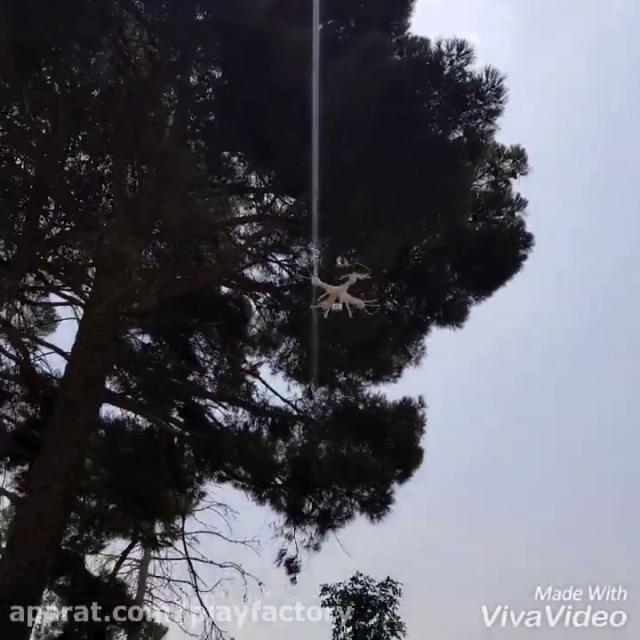drone: (303, 262, 381, 318)
